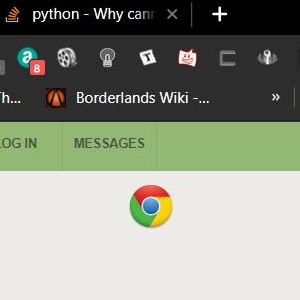chrome: (129, 184, 173, 228)
